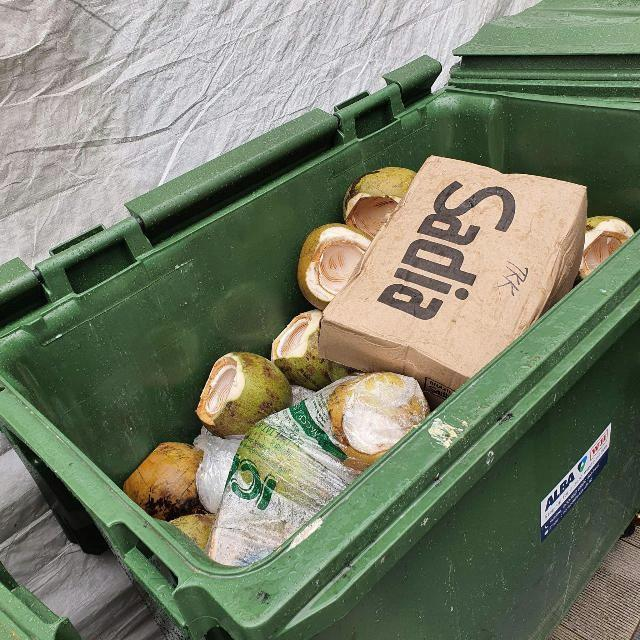cardboard: (315, 156, 589, 408)
